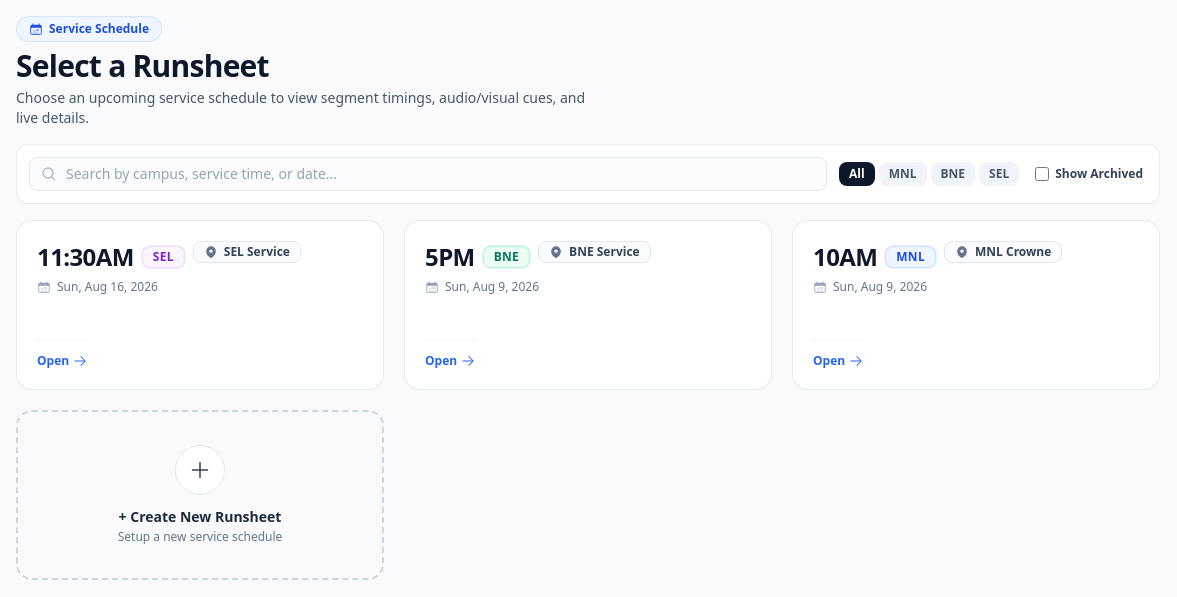
Test: RunsheetLandingView › renders friendly empty state when search matches nothing
This screenshot has width=1177, height=597.
Type "Nonexistent Location" into the field with placeholder "Search by campus, service time, or date...".
click(428, 174); type("Nonexistent Location")  # box 29,157 -> 827,191
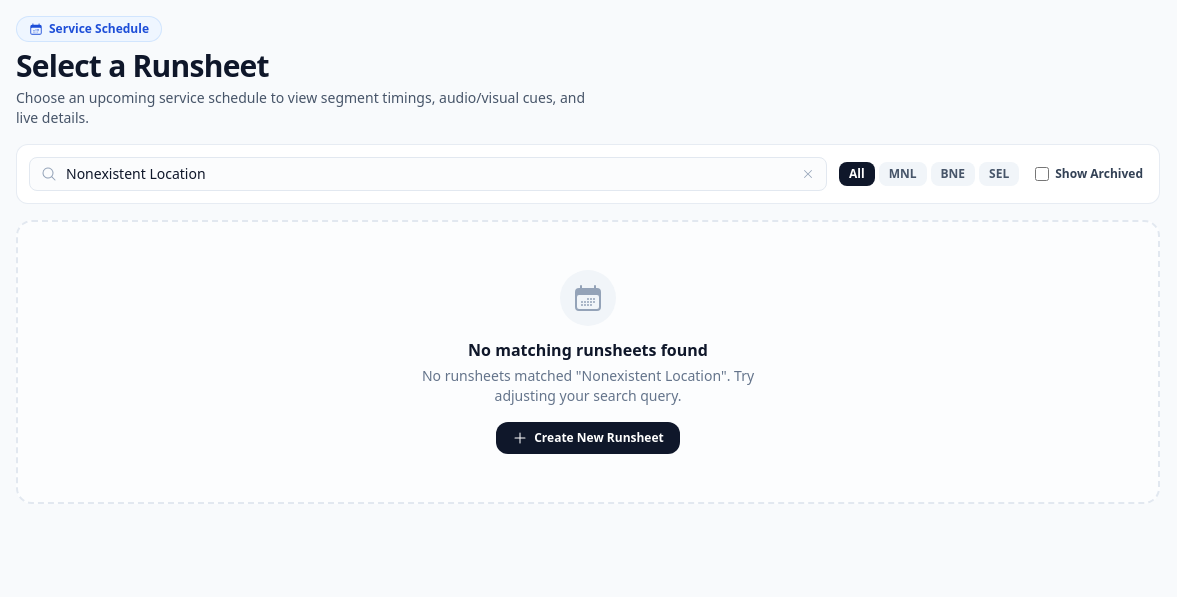
Expected: the heading "No matching runsheets found" is shown, 468,338 -> 708,362
